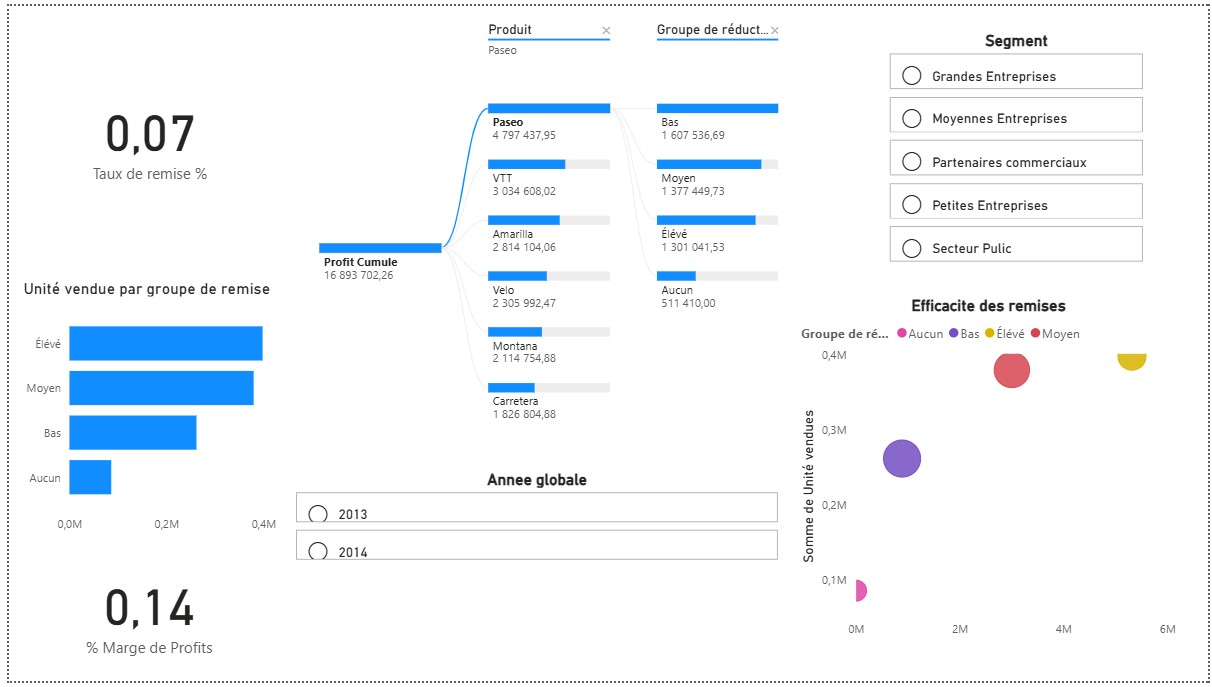

The page's visual inventory and layout, read from the dashboard file:
{"tool":"powerbi","page":{"name":"Efficacité des prix et des remises","canvas":[1280,720],"ordinal":5},"visuals":[{"type":"scatterChart","title":"Prix et impact des remises ","fields":{"Y":["Sum(financials.Unité vendues)"],"Size":["Sum(financials.Ventes)"],"X":["financials.Taux de remise %"],"Category":["financials.Pays"],"Series":["financials.Produit"]},"box":[10.3,27.9,629.4,279.4],"z":0},{"type":"scatterChart","title":"Taux de remise (%) et Marge de Profits","fields":{"X":["financials.Taux de remise %"],"Y":["financials.% Marge de Profits"],"Series":["financials.Produit"],"Category":["financials.Pays"]},"box":[10.3,339.7,629.4,277.9],"z":1000},{"type":"decompositionTreeVisual","fields":{"Analyze":["financials.Profit Cumule"],"ExplainBy":["financials.Product","financials.Discount Band","financials.Segment","financials.Country"]},"box":[639.7,0,639.7,698.5],"z":2000}]}

Visuals, with their boxes in screenshot pixels (x1, y1, x2, y2), scaled from the page's 1280x720 canvas onto the 1212x687 screenshot:
"Prix et impact des remises " scatterChart: {"x1": 10, "y1": 27, "x2": 606, "y2": 293}
"Taux de remise (%) et Marge de Profits" scatterChart: {"x1": 10, "y1": 324, "x2": 606, "y2": 589}
decompositionTreeVisual - financials.Profit Cumule x financials.Product: {"x1": 606, "y1": 0, "x2": 1211, "y2": 666}
